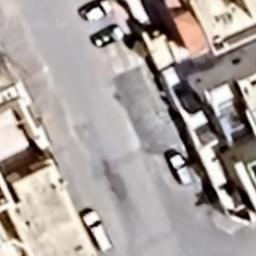SUV: (165, 148, 195, 188)
sedan: (88, 24, 126, 49), (79, 0, 113, 22)
truck: (77, 208, 118, 254)
